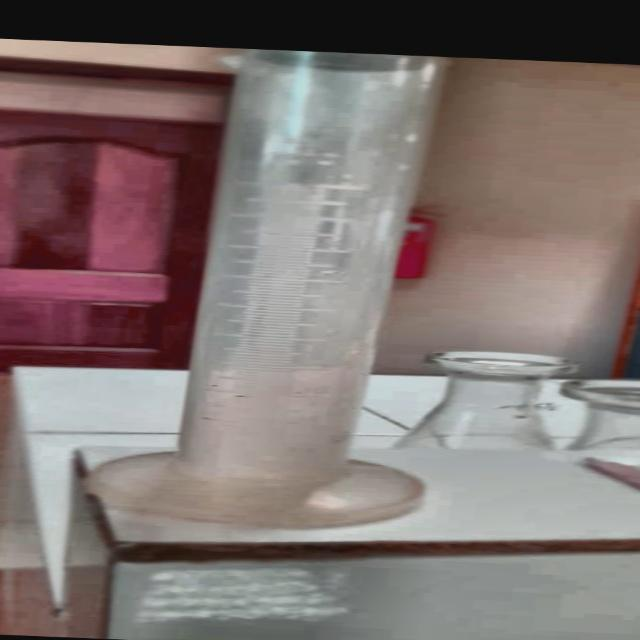Measuring Cylinder: (120, 54, 478, 524)
